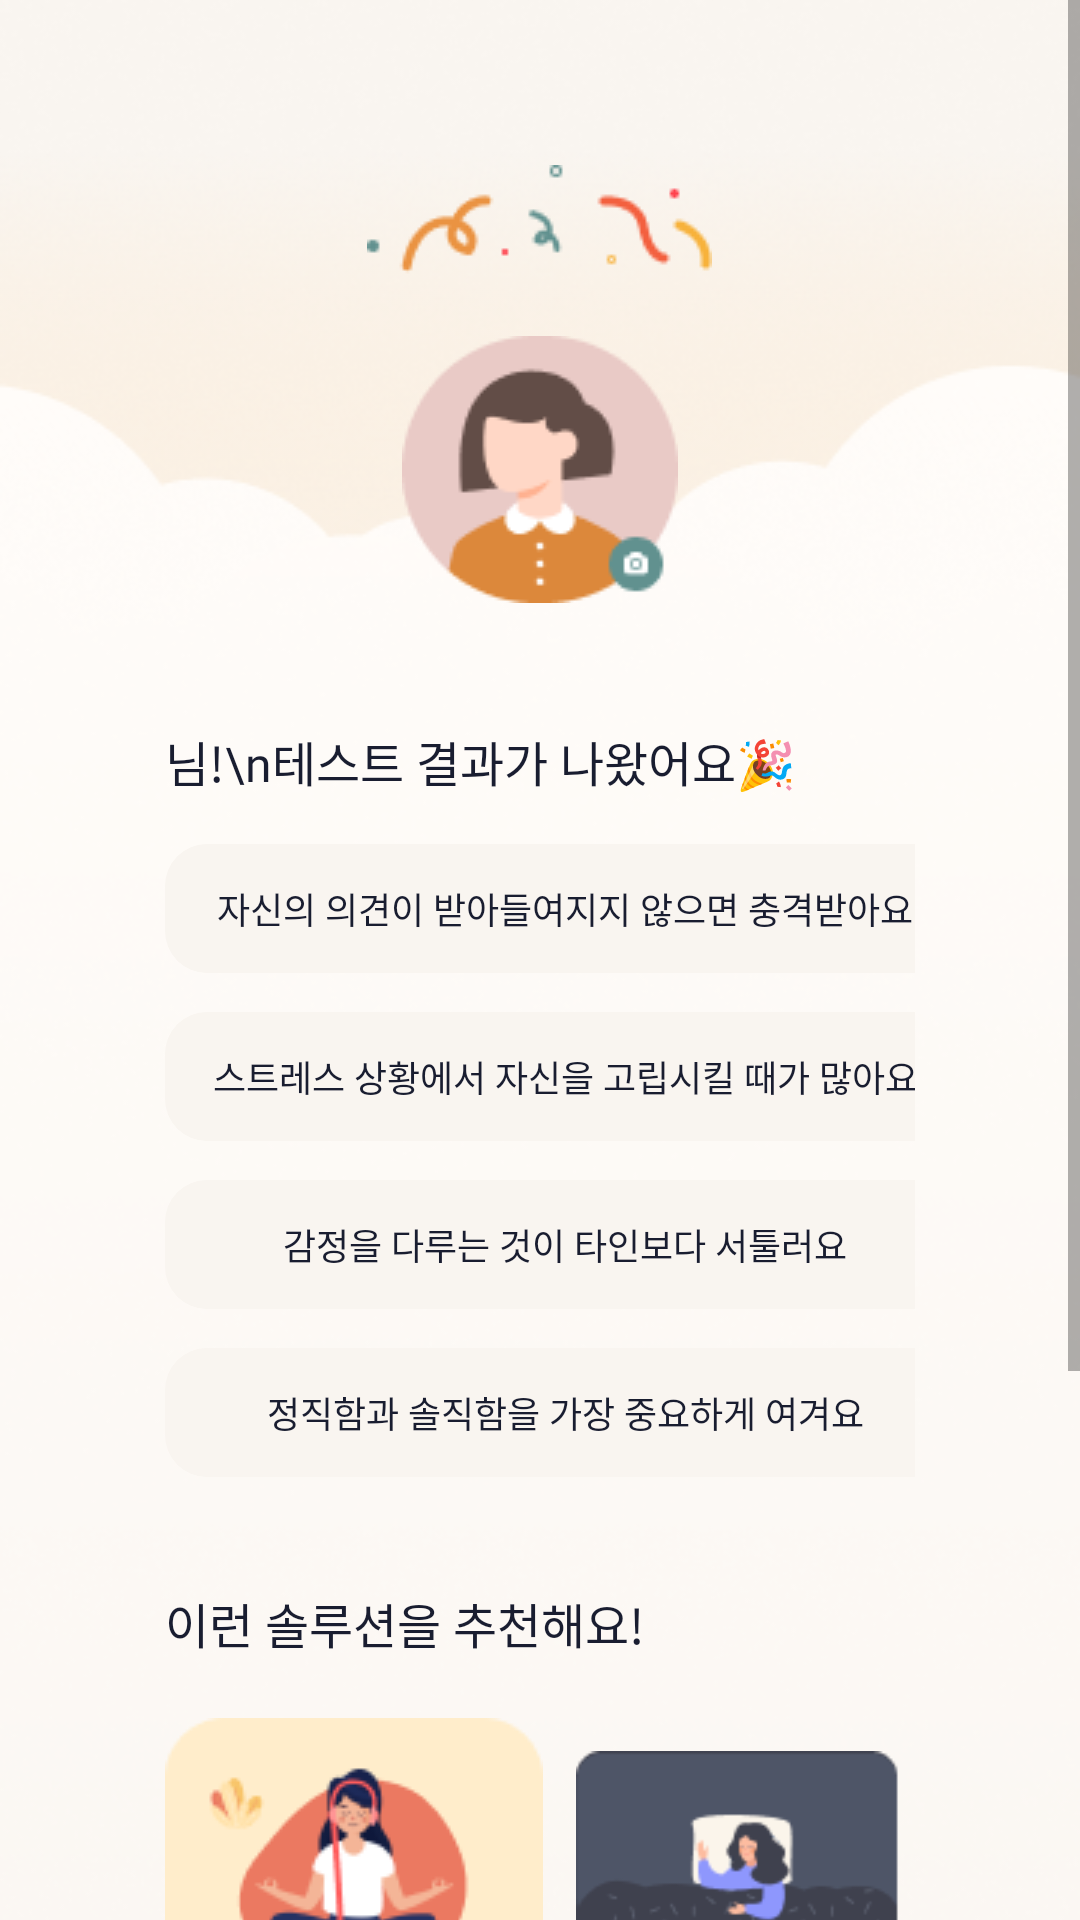

Screen size 1080×1920. Icon name, then its center in pixels as (x,y):
onboarding congrats: (539,218)
profile: (540,469)
